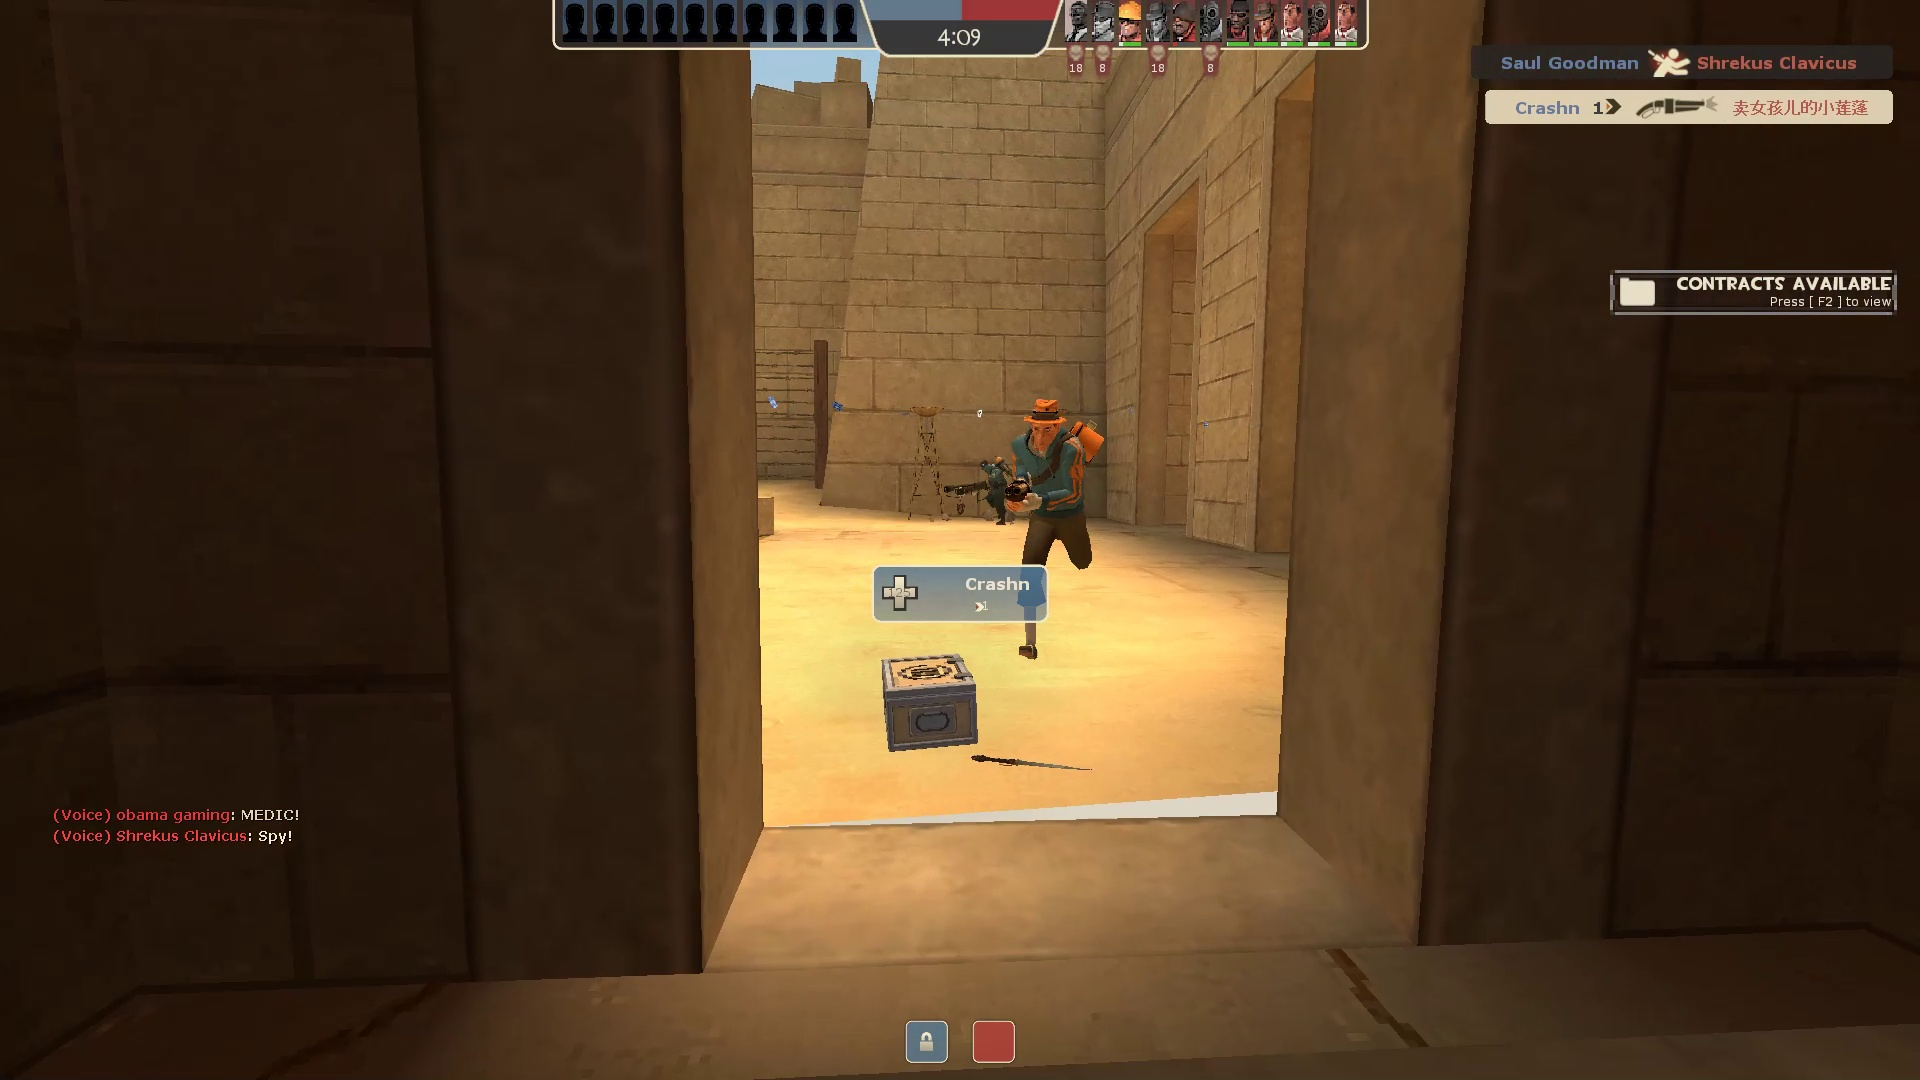blu_pyro: (942, 454, 1023, 529)
blu_scout: (996, 392, 1113, 686)
